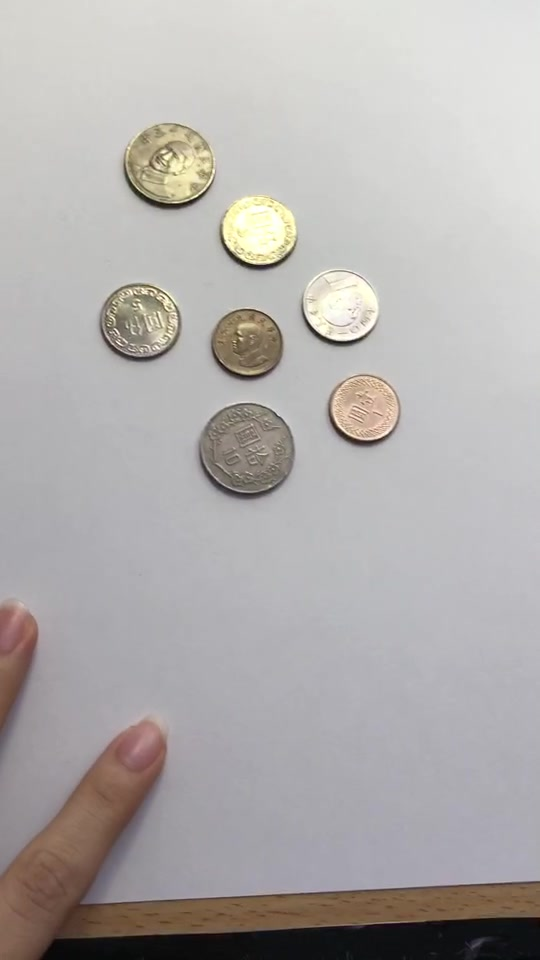1 dallar: (205, 304, 292, 384), (322, 367, 409, 447)
10 dallar: (188, 395, 298, 503), (115, 111, 223, 211)
5 dallar: (95, 277, 186, 365), (210, 184, 301, 272), (294, 264, 385, 352)
